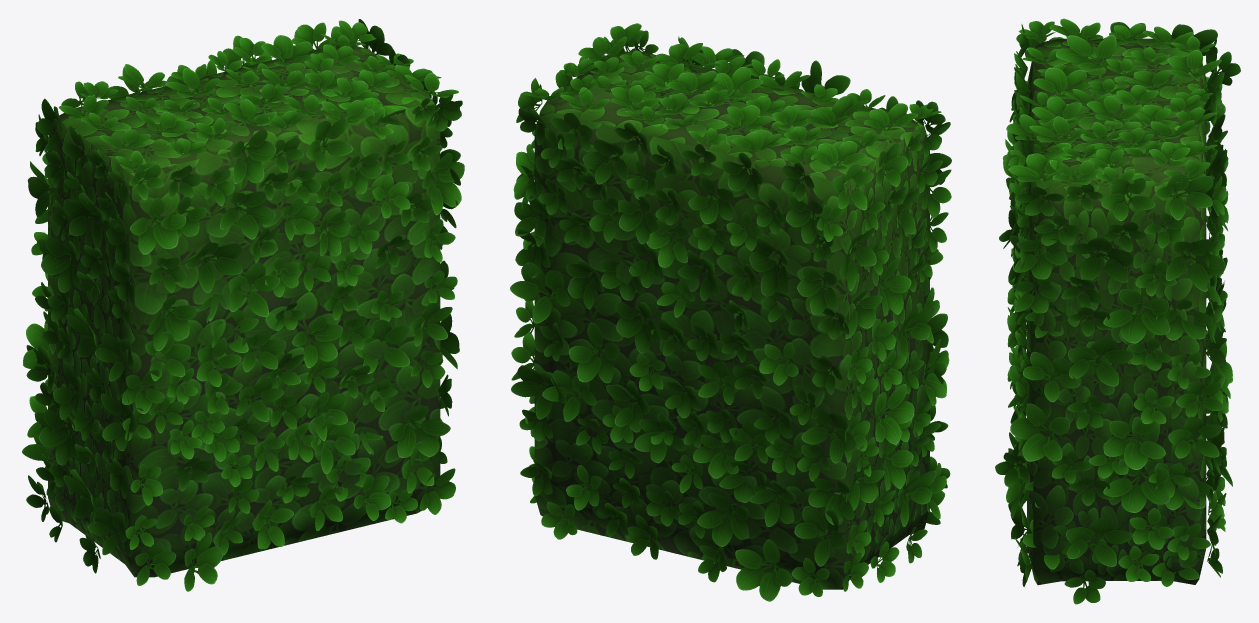
File: SE_Hedge_06.fbx
The picture shows the model from 3 angles, left to right: view 1: azimuth 30°, elevation 25°; view 2: azimuth 150°, elevation 25°; view 3: azimuth 270°, elevation 25°; orthographic projection.
Visible parts, largest first — view 1: SE_Hedge_06; view 2: SE_Hedge_06; view 3: SE_Hedge_06.
Part boxes in pixels (x1=…): SE_Hedge_06: x1=22, y1=19, x2=464, y2=591; SE_Hedge_06: x1=510, y1=23, x2=951, y2=601; SE_Hedge_06: x1=995, y1=18, x2=1240, y2=604.
Bounding box in the file's own units: 5.04 × 6.26 × 3.08.
